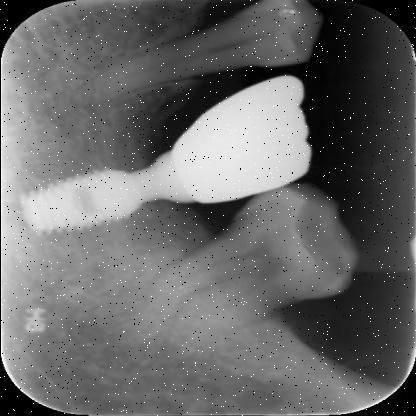Bicon: (17, 160, 166, 236)
